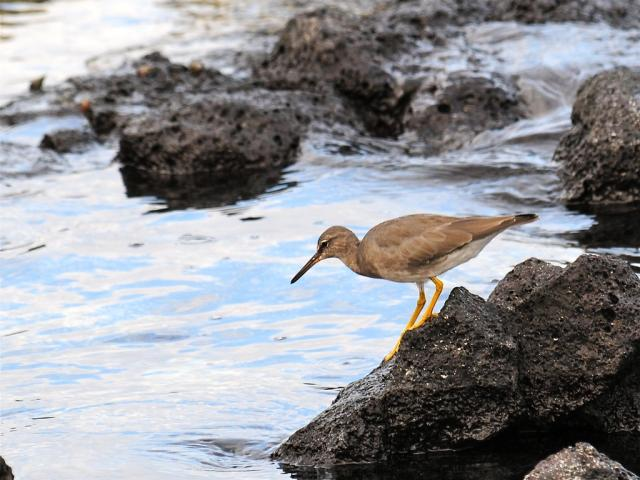Bird: (292, 212, 539, 358)
